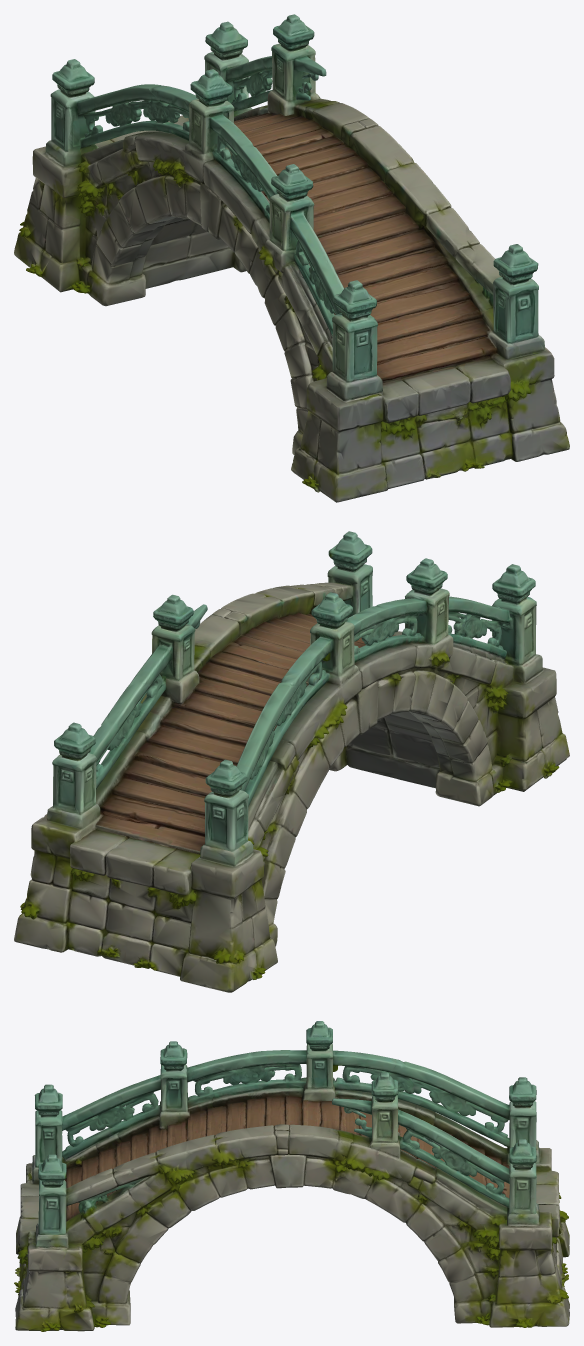
The model's file is bridge-arch.glb.
3 renders of one model, top to bottom at view 1: azimuth 30°, elevation 25°; view 2: azimuth 150°, elevation 25°; view 3: azimuth 270°, elevation 25°, orthographic. The views are drawn at different scales.
Parts seen in each view (by area): view 1: tripo_node_746dc513-9562-4e18-bcc5-f528de52cb50; view 2: tripo_node_746dc513-9562-4e18-bcc5-f528de52cb50; view 3: tripo_node_746dc513-9562-4e18-bcc5-f528de52cb50.
Part boxes in pixels (box(x1,y1,x2,y2)): tripo_node_746dc513-9562-4e18-bcc5-f528de52cb50: box(14, 14, 569, 502); tripo_node_746dc513-9562-4e18-bcc5-f528de52cb50: box(14, 531, 569, 992); tripo_node_746dc513-9562-4e18-bcc5-f528de52cb50: box(14, 1021, 569, 1331).
Bounding box in the file's own units: 0.423 × 0.4696 × 0.982.
1 material, 1 textured.
